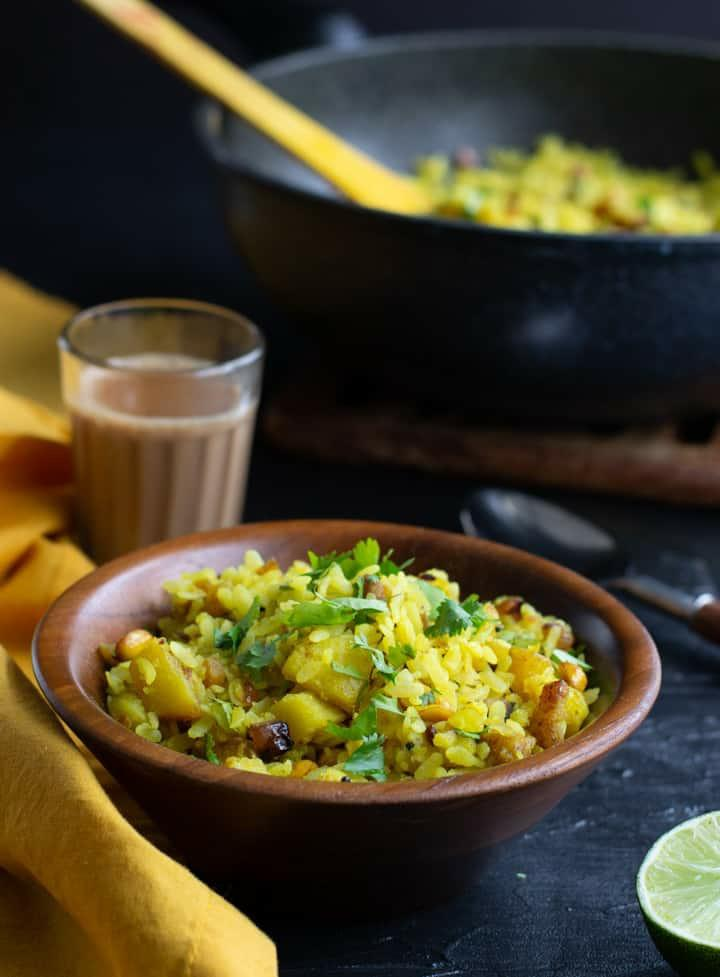Poha: (113, 555, 595, 780)
